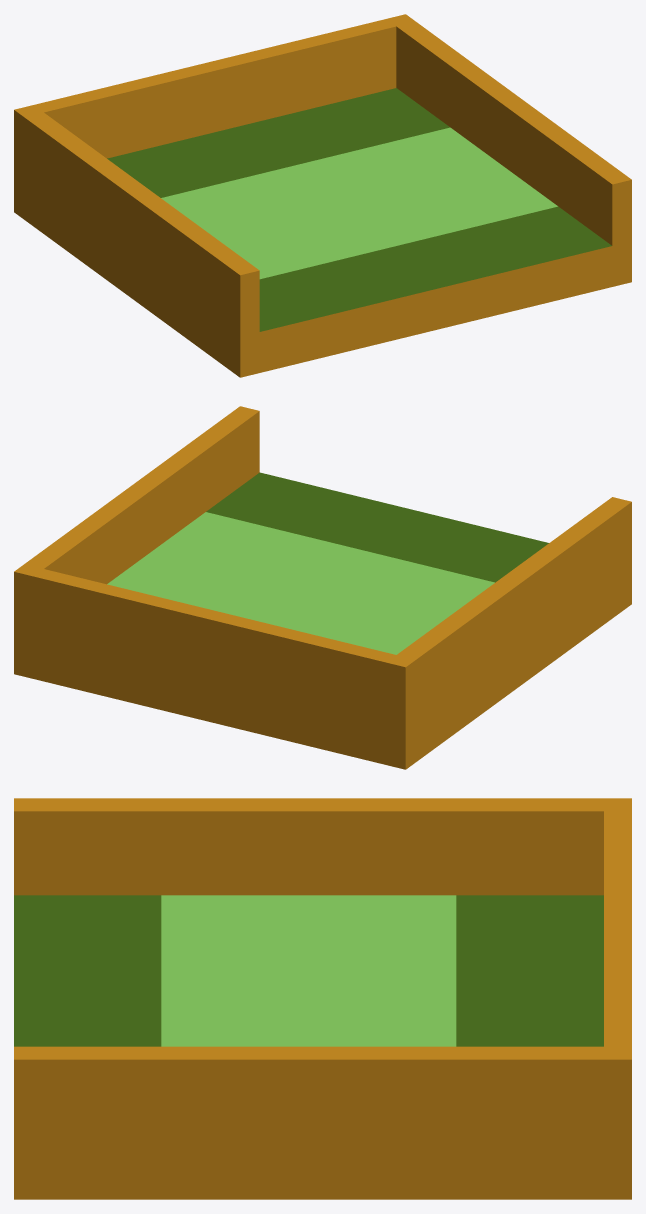
The model's file is Flat_Straight_Tee_proto.fbx.
The picture shows the model from 3 angles, top to bottom: view 1: azimuth 30°, elevation 25°; view 2: azimuth 150°, elevation 25°; view 3: azimuth 270°, elevation 25°; orthographic projection. The views are drawn at different scales.
Visible parts, largest first — view 1: Flat_straight_Tee; view 2: Flat_straight_Tee; view 3: Flat_straight_Tee.
Boxes of the visible parts, left/top/right/bottom form: Flat_straight_Tee: left=14, top=14, right=631, bottom=377; Flat_straight_Tee: left=14, top=406, right=631, bottom=769; Flat_straight_Tee: left=14, top=798, right=631, bottom=1199.
Bounding box in the file's own units: 100 × 25 × 100.
